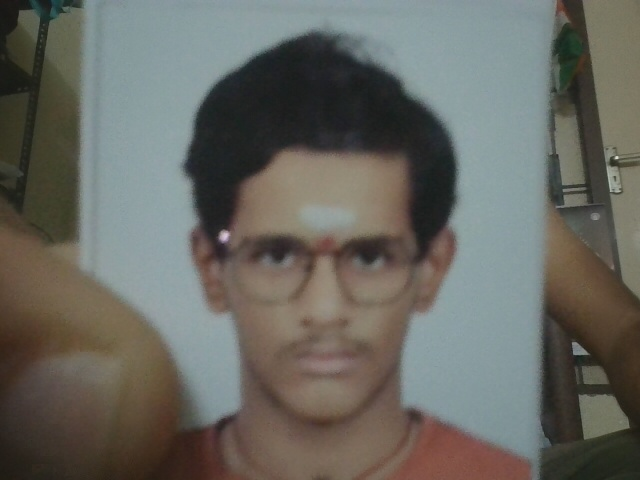fake: (191, 157, 456, 422)
